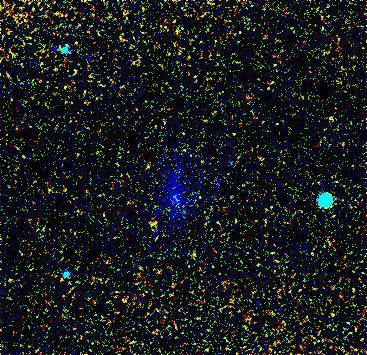star: (144, 206, 174, 236)
